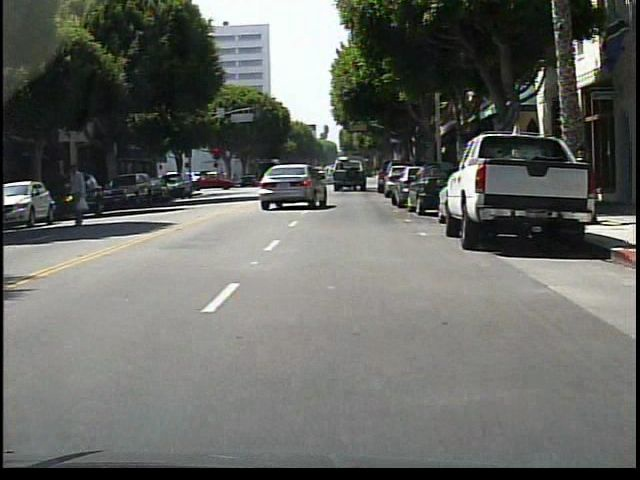person: (68, 162, 92, 231), (294, 168, 305, 191), (314, 167, 322, 190)
